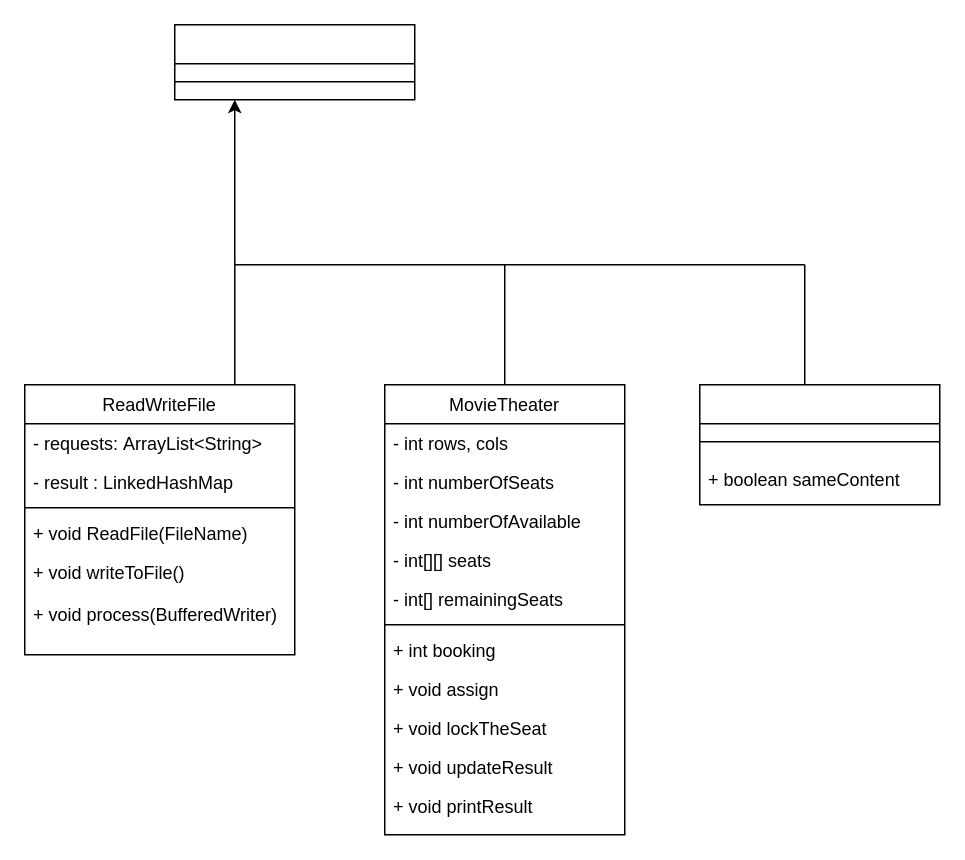
Some shapes in this 965 by 860 pixel diagram are drawn without their labels. Each missing label, with the box of its shape:
Main: (173, 23, 415, 100)
TestDriver: (698, 383, 940, 505)
